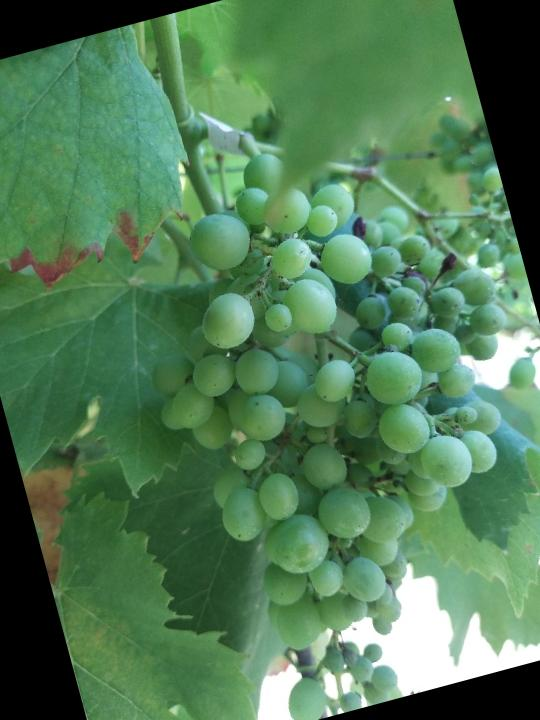grape: (101, 101, 540, 682)
